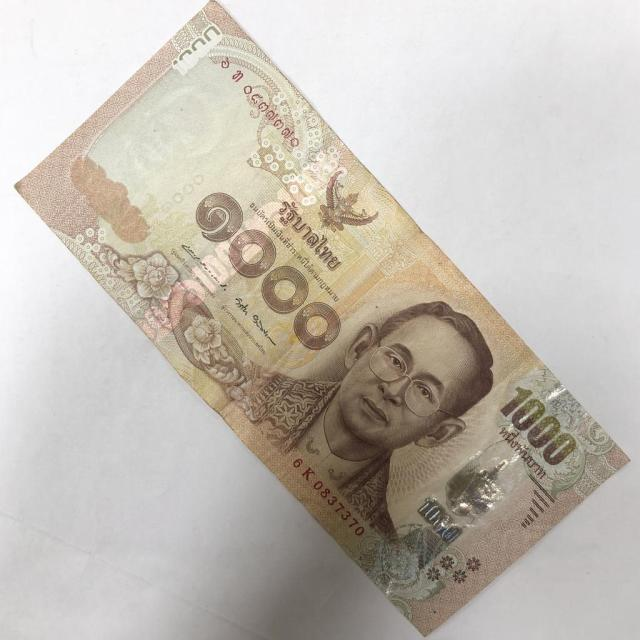THAI1000: (12, 0, 629, 638)
